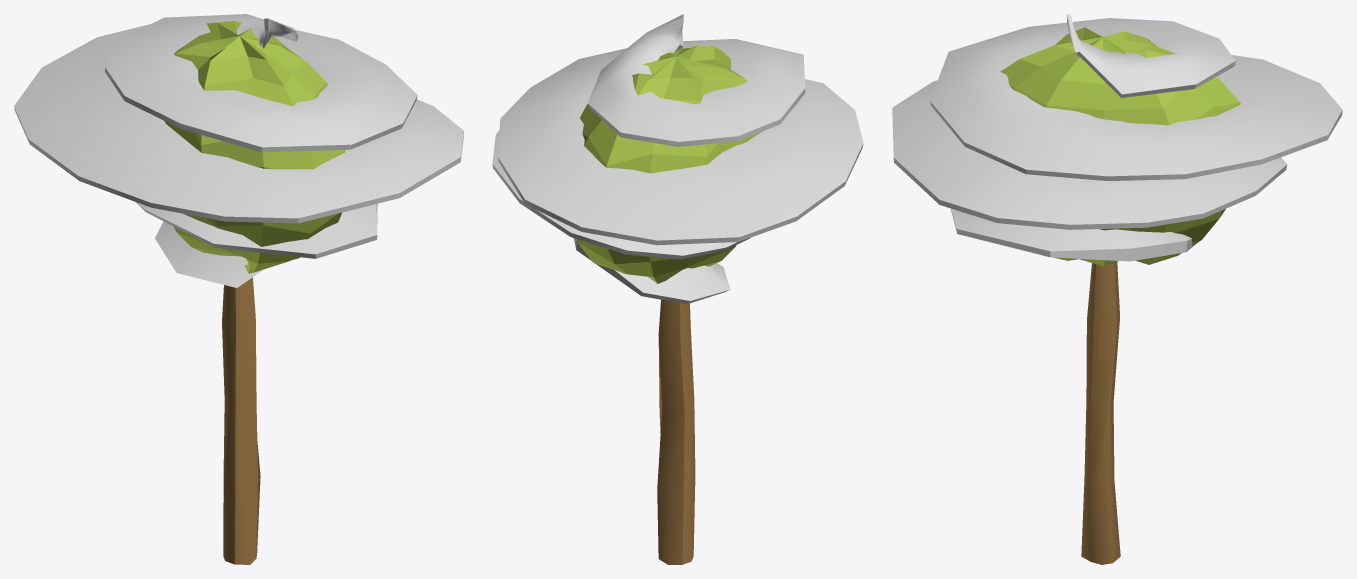
Rendered from arbreRondeNeige.fbx.
3 renders of one model, left to right at view 1: azimuth 30°, elevation 25°; view 2: azimuth 150°, elevation 25°; view 3: azimuth 270°, elevation 25°, orthographic. The views are drawn at different scales.
Visible parts, largest first — view 1: arbreRondeNeige; view 2: arbreRondeNeige; view 3: arbreRondeNeige.
Part boxes in pixels (x1,y1,x2,y2): arbreRondeNeige: [14, 14, 463, 564]; arbreRondeNeige: [492, 14, 863, 564]; arbreRondeNeige: [892, 14, 1342, 564].
Bounding box in the file's own units: 197 × 299 × 223.
